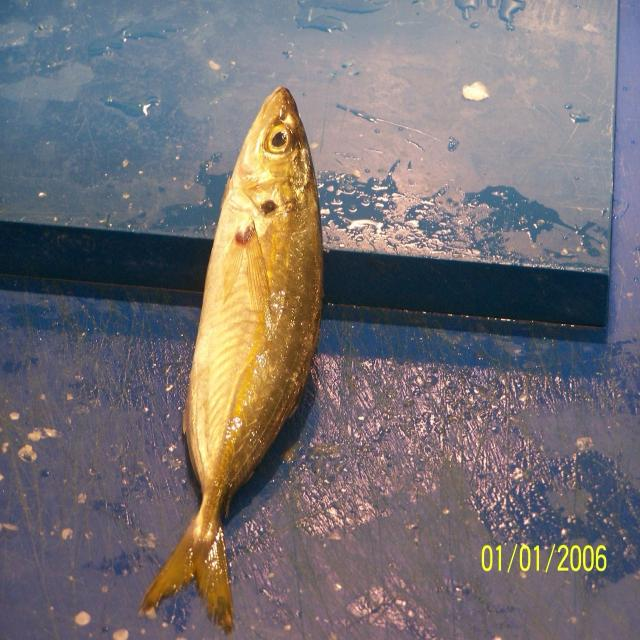Hourse-Mackerel-istavrit-: (140, 87, 326, 635)
